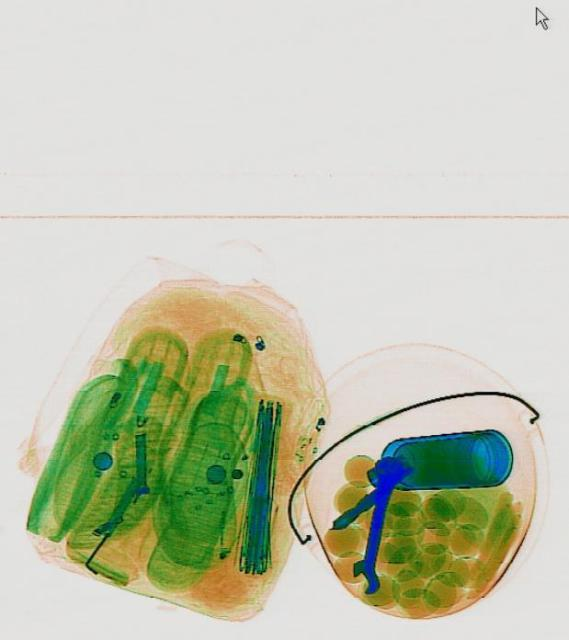Wrench: (345, 453, 401, 597)
